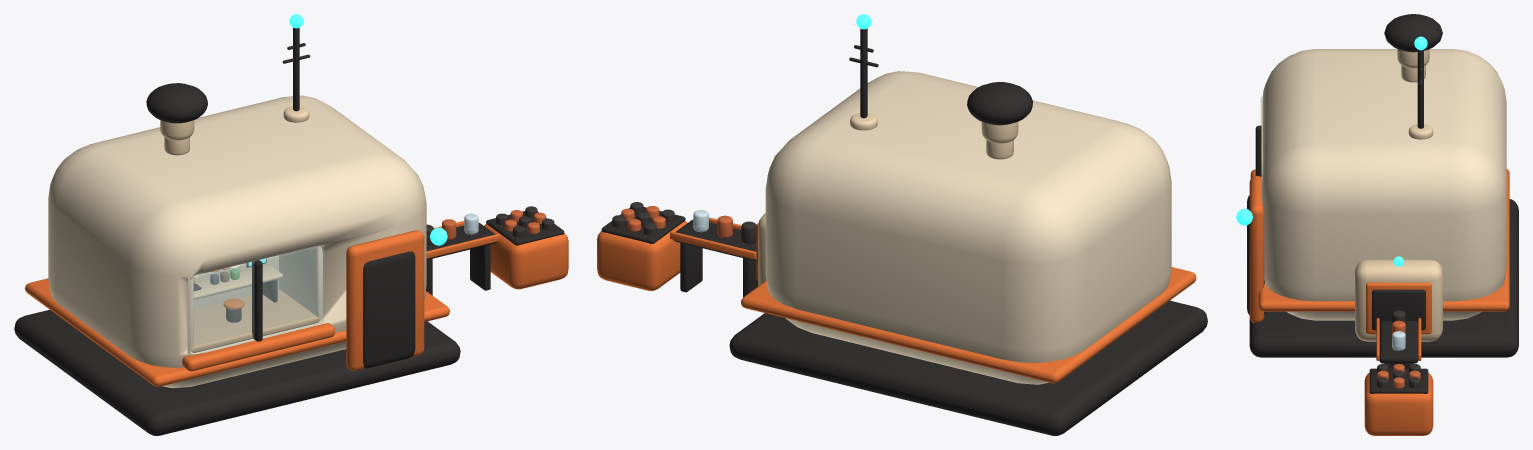
The model's file is research-a-1.glb.
3 views of the same model, side by side, from view 1: azimuth 30°, elevation 25°; view 2: azimuth 150°, elevation 25°; view 3: azimuth 270°, elevation 25° (orthographic). The views are drawn at different scales.
Parts seen in each view (by area): view 1: Cube.001, Cube, Cube.012, Cube.017, Cube.016, Cube.015, Cube.003, Cube.026, Cube.013, Cube.005, Sphere.003, Cube.006 (+8 smaller); view 2: Cube.001, Cube, Cube.015, Cube.026, Sphere.003, Cube.021, Cube.025, Cube.027, Cube.023, Cylinder.028, Cylinder.026; view 3: Cube.001, Cube, Cube.018, Cube.026, Cube.015, Cube.016, Cube.020, Sphere.003, Cube.021, Cube.019, Cube.027, Cylinder.028 (+4 smaller).
Part boxes in pixels (left/top/right/bottom): Cube.001: left=48, top=95, right=426, bottom=388; Cube: left=14, top=309, right=460, bottom=435; Cube.012: left=189, top=245, right=324, bottom=355; Cube.017: left=363, top=251, right=415, bottom=368; Cube.016: left=346, top=230, right=424, bottom=370; Cube.015: left=25, top=278, right=449, bottom=386; Cube.003: left=191, top=288, right=320, bottom=352; Cube.026: left=484, top=224, right=568, bottom=289; Cube.013: left=182, top=323, right=334, bottom=371; Cube.005: left=279, top=246, right=322, bottom=318; Sphere.003: left=146, top=83, right=207, bottom=123; Cube.006: left=193, top=265, right=283, bottom=299; Cube.001: left=765, top=71, right=1171, bottom=384; Cube: left=729, top=300, right=1207, bottom=435; Cube.015: left=741, top=267, right=1196, bottom=383; Cube.026: left=597, top=221, right=687, bottom=290; Sphere.003: left=967, top=82, right=1032, bottom=125; Cube.021: left=673, top=219, right=756, bottom=260; Cube.025: left=680, top=243, right=702, bottom=292; Cube.027: left=601, top=207, right=685, bottom=243; Cube.023: left=670, top=231, right=756, bottom=259; Cylinder.028: left=860, top=28, right=867, bottom=118; Cylinder.026: left=981, top=121, right=1018, bottom=143; Cube.001: left=1261, top=49, right=1506, bottom=320; Cube: left=1249, top=199, right=1518, bottom=357; Cube.018: left=1355, top=259, right=1442, bottom=341; Cube.026: left=1364, top=373, right=1433, bottom=435; Cube.015: left=1258, top=169, right=1509, bottom=311; Cube.016: left=1249, top=175, right=1264, bottom=322; Cube.020: left=1372, top=289, right=1425, bottom=330; Sphere.003: left=1384, top=14, right=1442, bottom=52; Cube.021: left=1379, top=321, right=1418, bottom=363; Cube.019: left=1366, top=282, right=1431, bottom=334; Cube.027: left=1369, top=368, right=1428, bottom=393; Cylinder.028: left=1417, top=49, right=1423, bottom=128.
Size of the model in its own units: 2.15 by 1.3 by 1.16.
